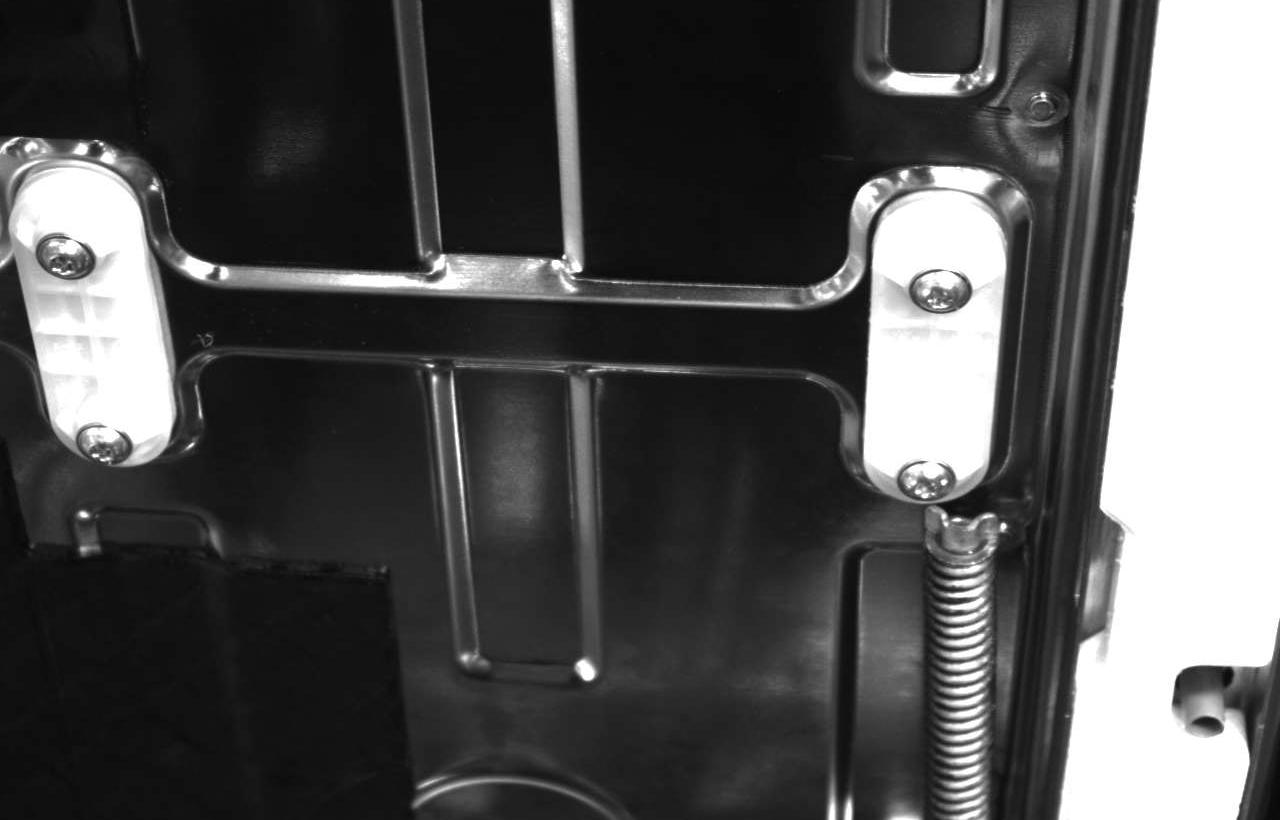vida-ok: (24, 219, 111, 297), (889, 251, 977, 323), (70, 409, 147, 473), (885, 450, 960, 508)
